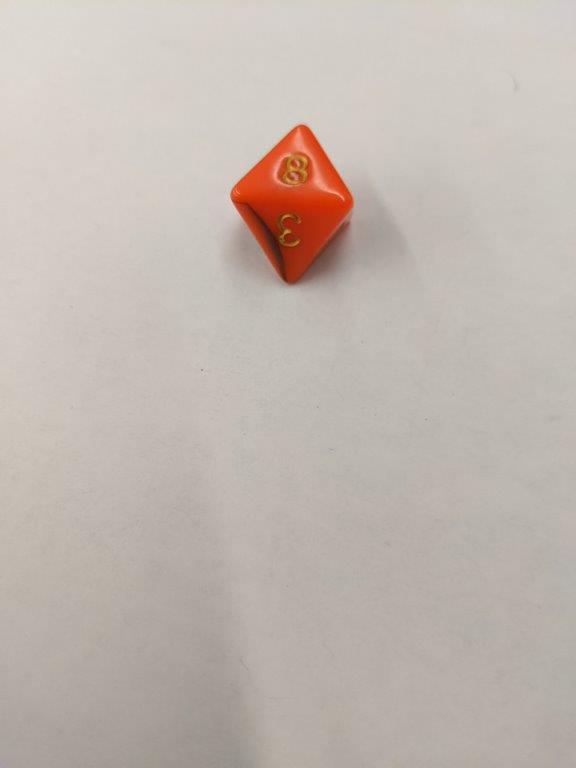d8-8: (232, 125, 353, 286)
